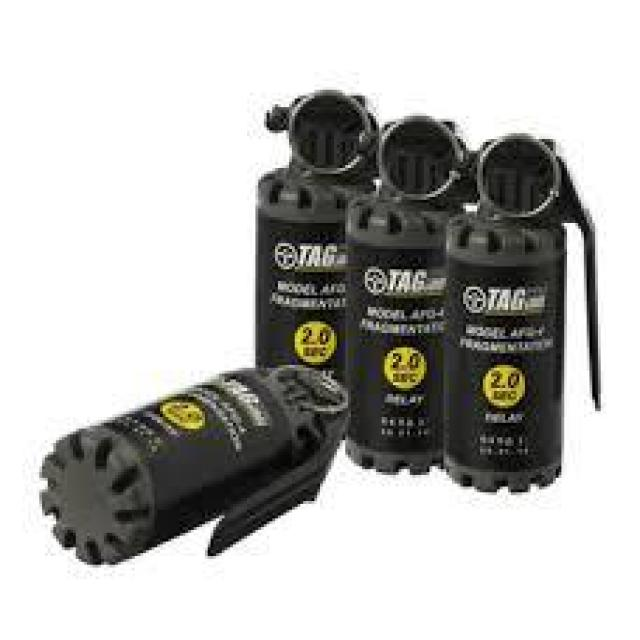grenade: (37, 358, 355, 567), (436, 128, 604, 496), (344, 101, 478, 476), (255, 74, 379, 369)
